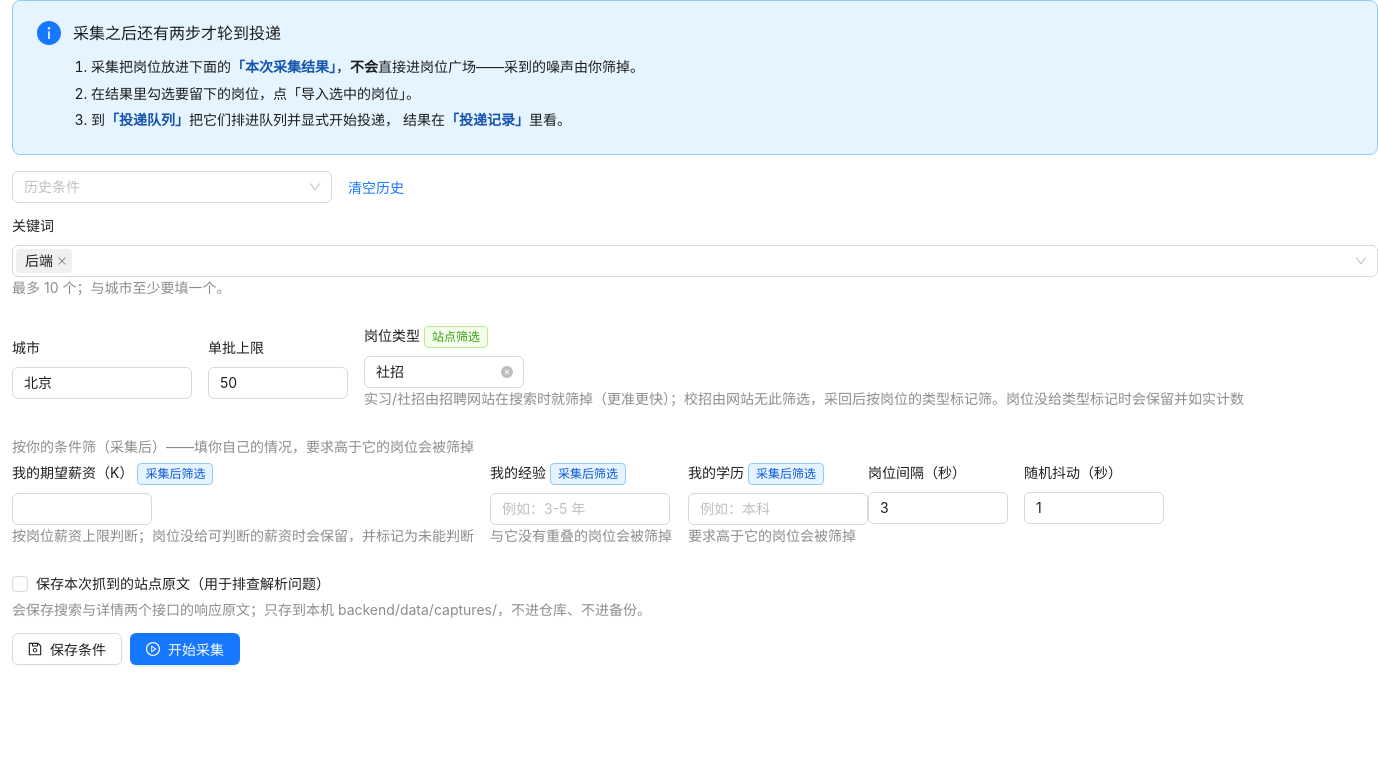
Test: CollectPanel 岗位类型 › 切到校招后标签变为「采集后筛选」——BOSS 无校招参数，如实说明
Expected: the text "岗位类型" is shown, [364,325,420,347]
# 打开岗位类型下拉并选择「校招」。
Press the mouse on the dropdown labelled "岗位类型 站点筛选" at (426, 337), box [364,326,488,348]
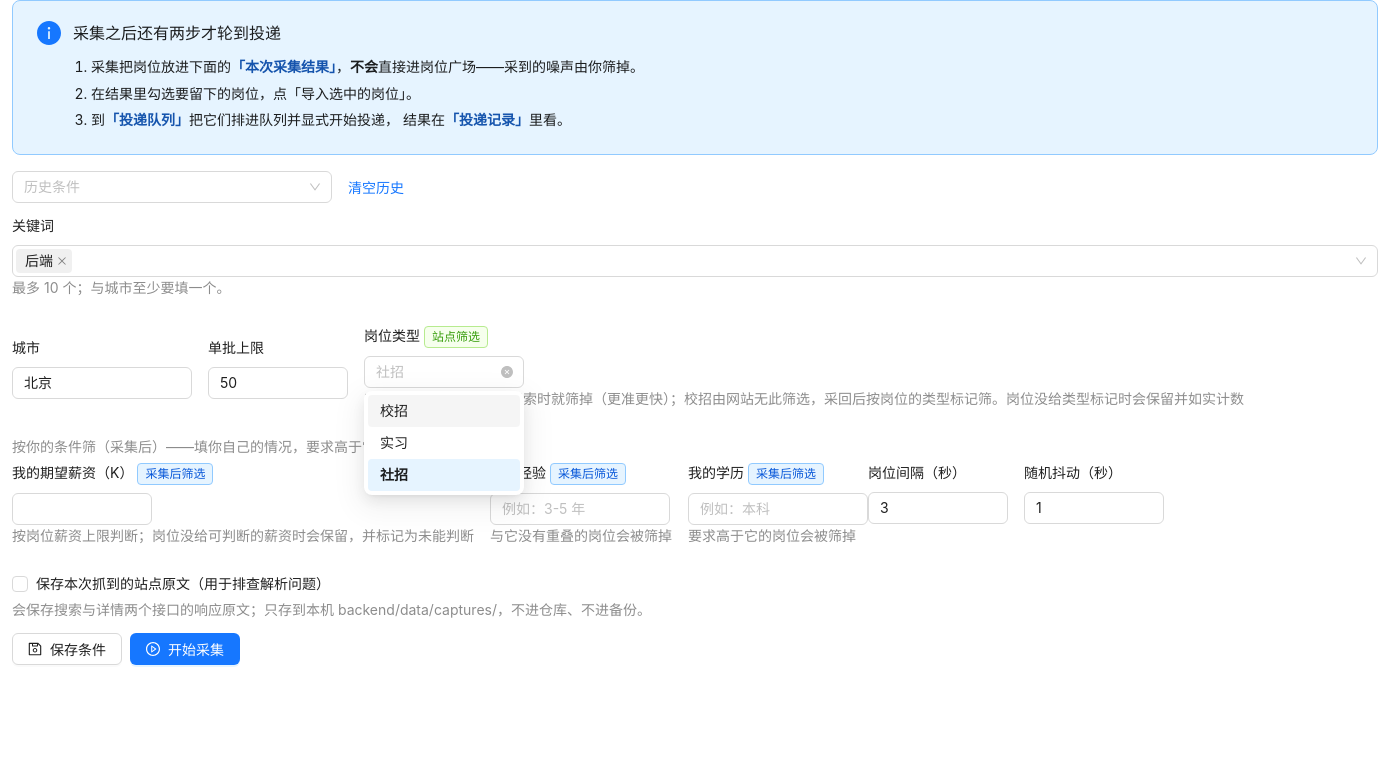
Click the text "校招" at (394, 410), box [380,402,408,419]
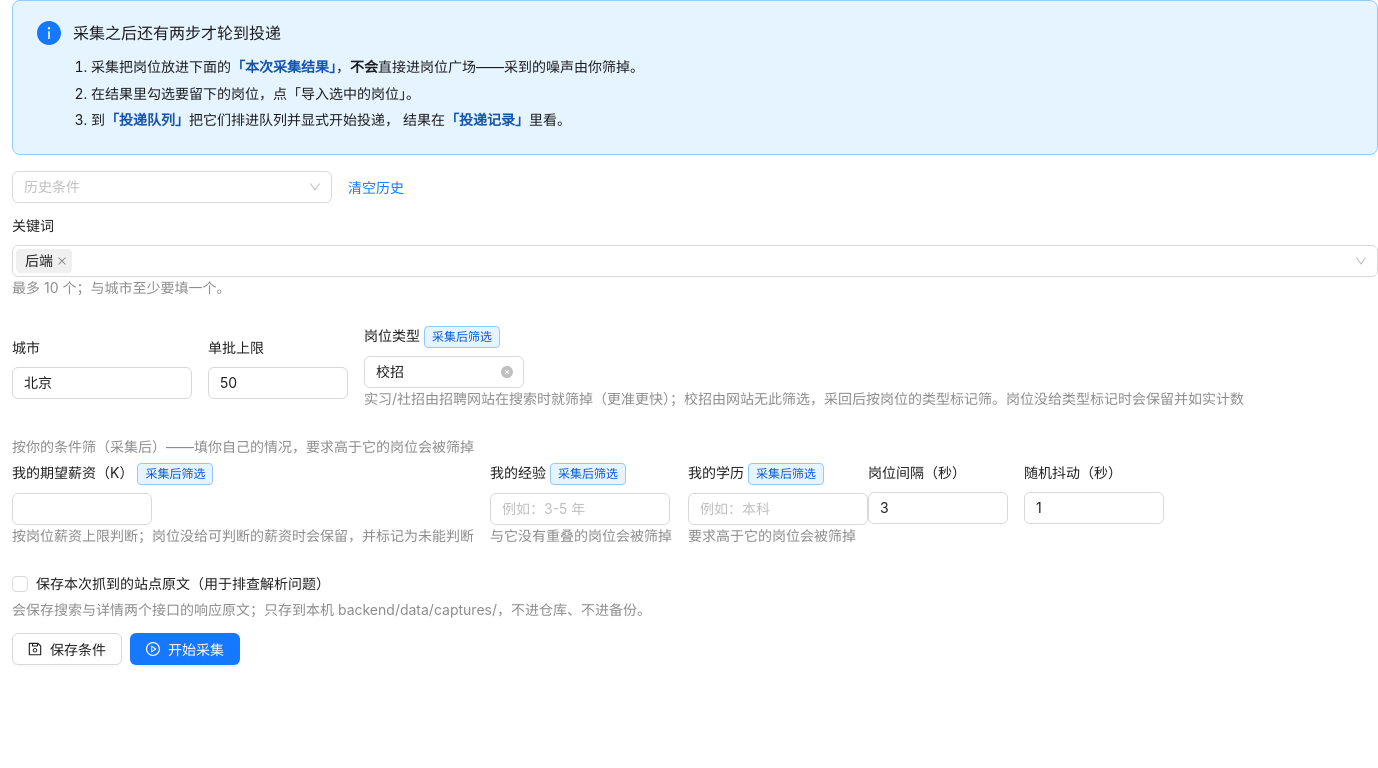
Now the search field "岗位类型" shows "采集后筛选", box [432,329,492,344]
